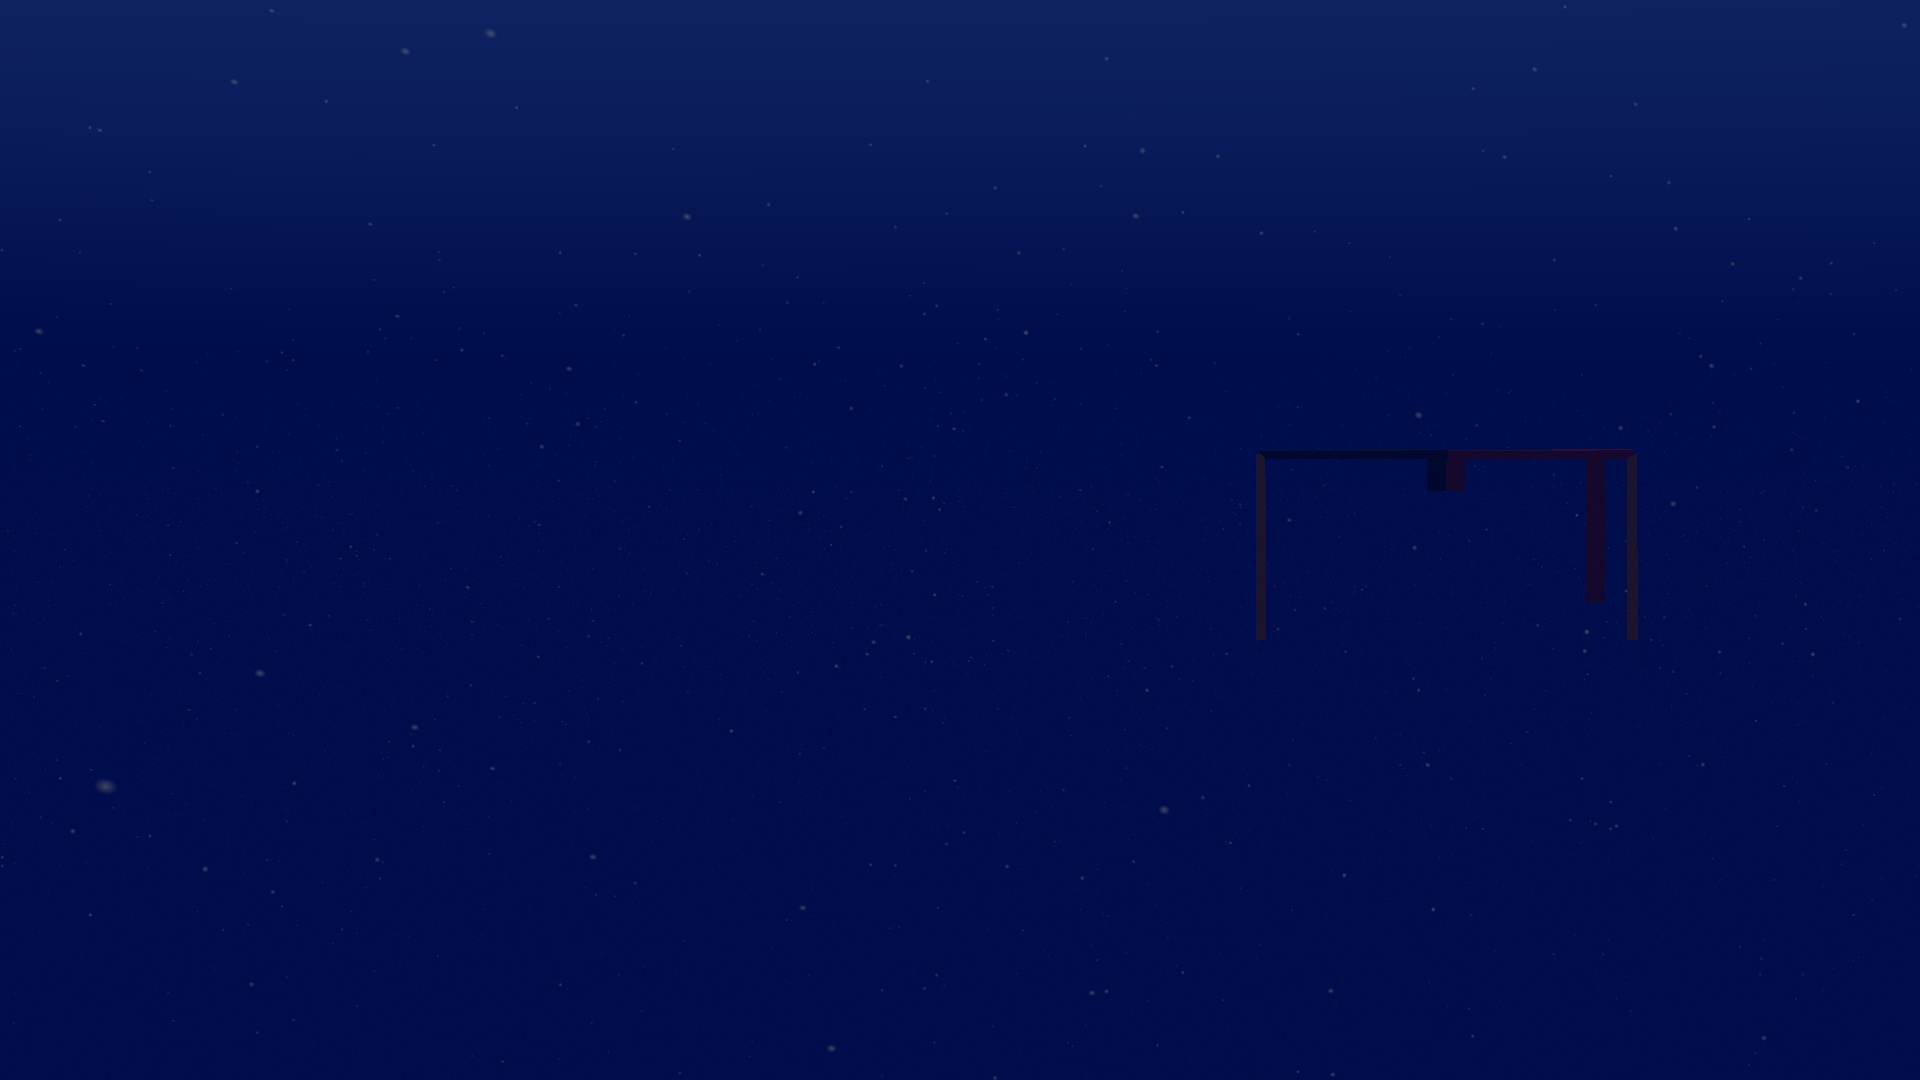Gate: (1245, 439, 1647, 654)
